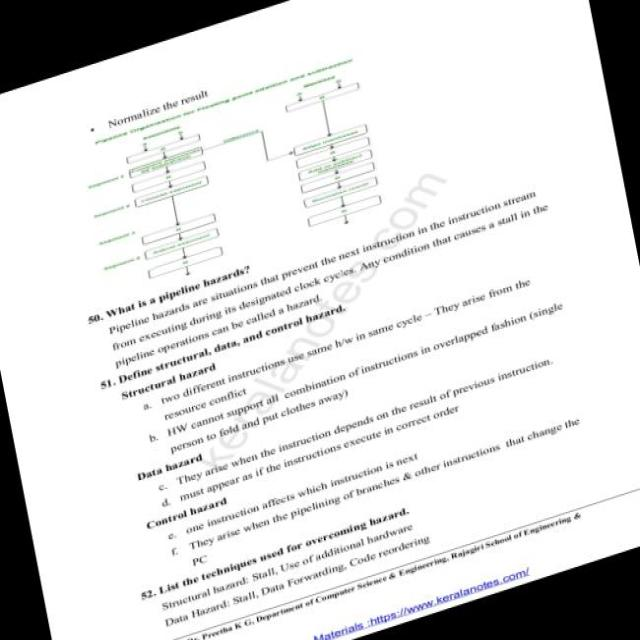Figure Detection - v3 Dataset Version2: (70, 47, 392, 306)
